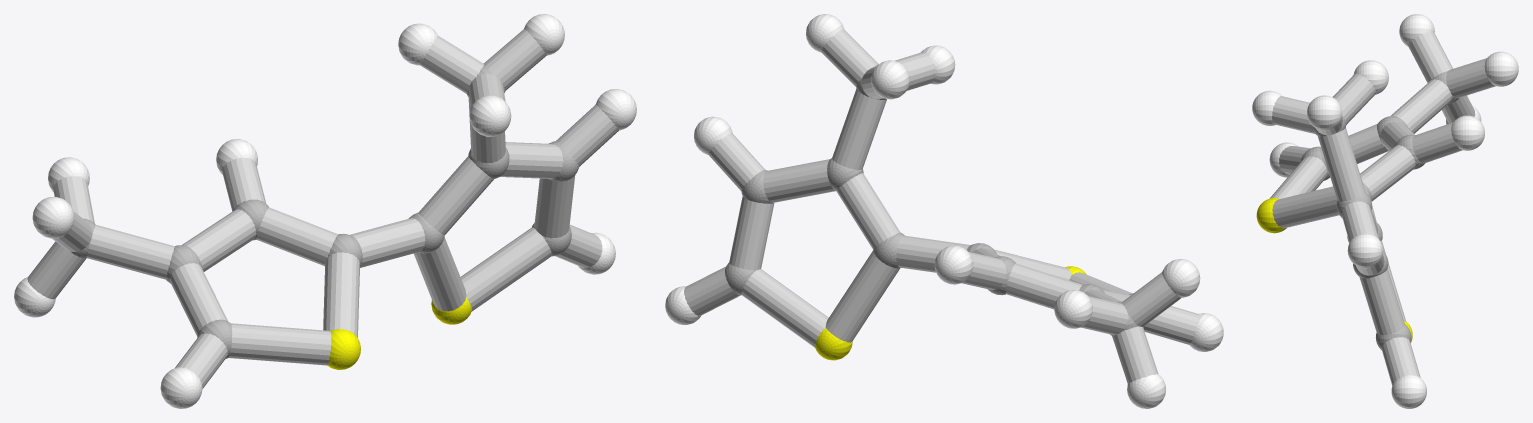
Rendered from Methylthiophene_Phi_10_Theta_260_Methylthiophene.glb.
3 renders of one model, left to right at view 1: azimuth 30°, elevation 25°; view 2: azimuth 150°, elevation 25°; view 3: azimuth 270°, elevation 25°, orthographic. The views are drawn at different scales.
Visible parts, largest first — view 1: grp7965, grp3621, grp1, grp7241; view 2: grp7965, grp3621, grp1, grp7241; view 3: grp7965, grp3621, grp1, grp7241.
Part boxes in pixels (box(x1,y1,x2,y2)): grp7965: box(27, 29, 618, 388); grp3621: box(14, 14, 636, 408); grp1: box(71, 65, 579, 358); grp7241: box(327, 297, 471, 369); grp7965: box(684, 29, 1199, 383); grp3621: box(665, 14, 1223, 408); grp1: box(725, 64, 1144, 335); grp7241: box(814, 266, 1086, 360); grp7965: box(1270, 31, 1495, 385); grp3621: box(1252, 14, 1518, 408); grp1: box(1300, 71, 1458, 350); grp7241: box(1256, 198, 1412, 342).
Size of the model in its own units: 9.45 by 5.12 by 4.5.
